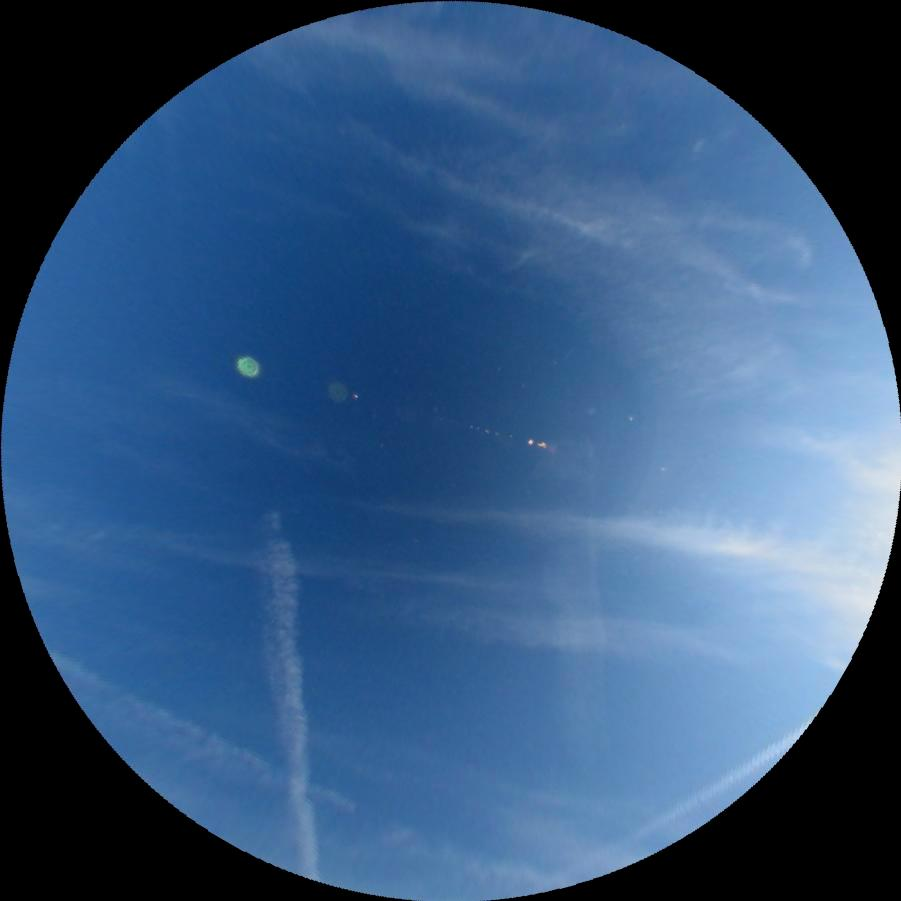contrail old: (538, 711, 827, 899)
contrail veryold: (537, 440, 617, 756), (257, 511, 320, 881)
